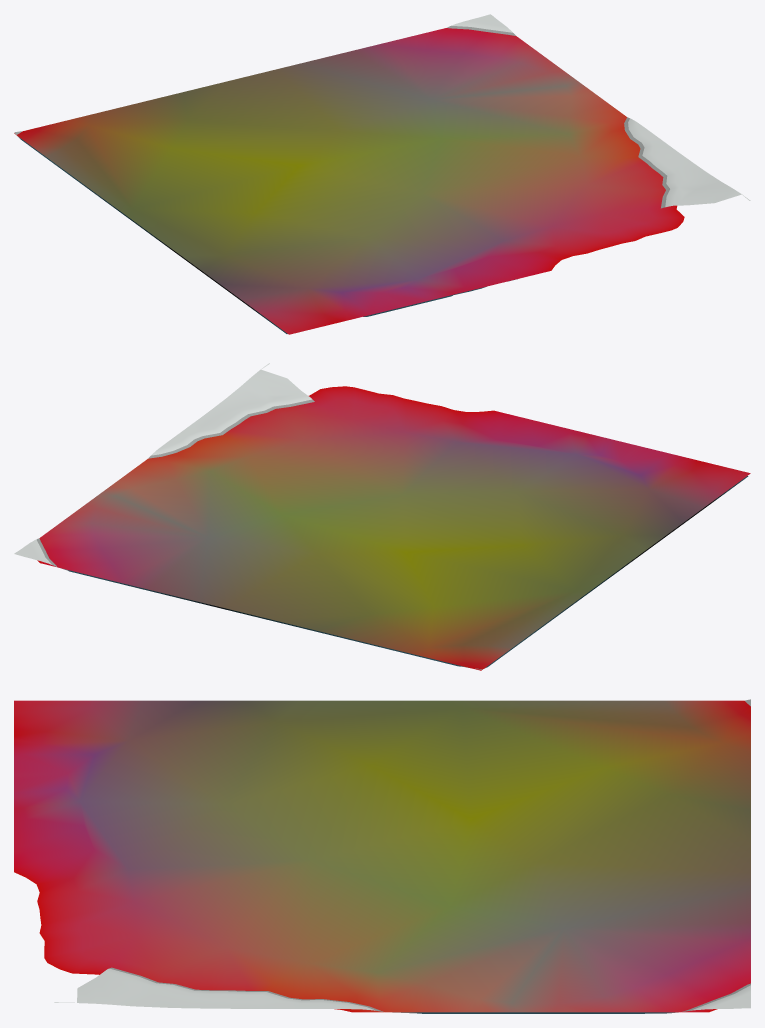
3 views of the same model, one above another, from view 1: azimuth 30°, elevation 25°; view 2: azimuth 150°, elevation 25°; view 3: azimuth 270°, elevation 25° (orthographic). The views are drawn at different scales.
Visible parts, largest first — view 1: G:\FFXIV-MapTools\exports\r2f1\bg\ex1\01_roc_r2\fld\r2f1\bgp (×4); view 2: G:\FFXIV-MapTools\exports\r2f1\bg\ex1\01_roc_r2\fld\r2f1\bgp (×4); view 3: G:\FFXIV-MapTools\exports\r2f1\bg\ex1\01_roc_r2\fld\r2f1\bgp (×3).
Part boxes in pixels (bbox=[...]): G:\FFXIV-MapTools\exports\r2f1\bg\ex1\01_roc_r2\fld\r2f1\bgp (×4): bbox=[14, 14, 750, 334]; G:\FFXIV-MapTools\exports\r2f1\bg\ex1\01_roc_r2\fld\r2f1\bgp (×4): bbox=[14, 363, 750, 670]; G:\FFXIV-MapTools\exports\r2f1\bg\ex1\01_roc_r2\fld\r2f1\bgp (×3): bbox=[14, 699, 750, 1012].
Bounding box in the file's own units: 128 × 2.06 × 128.
